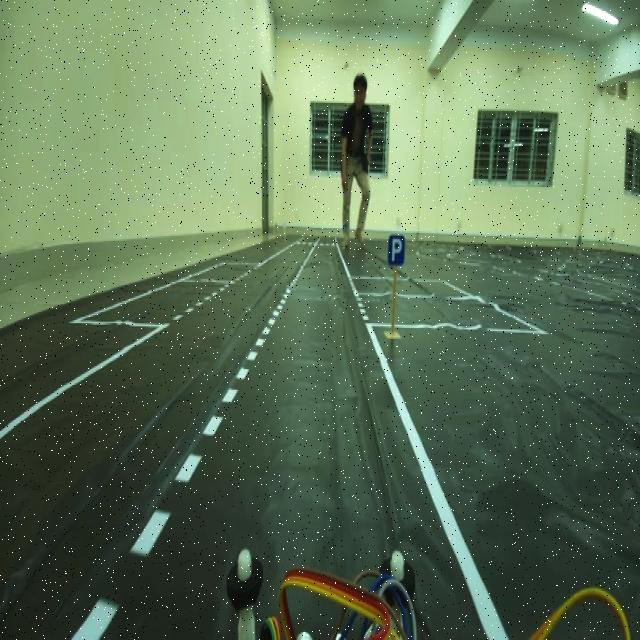parking: (383, 230, 408, 267)
